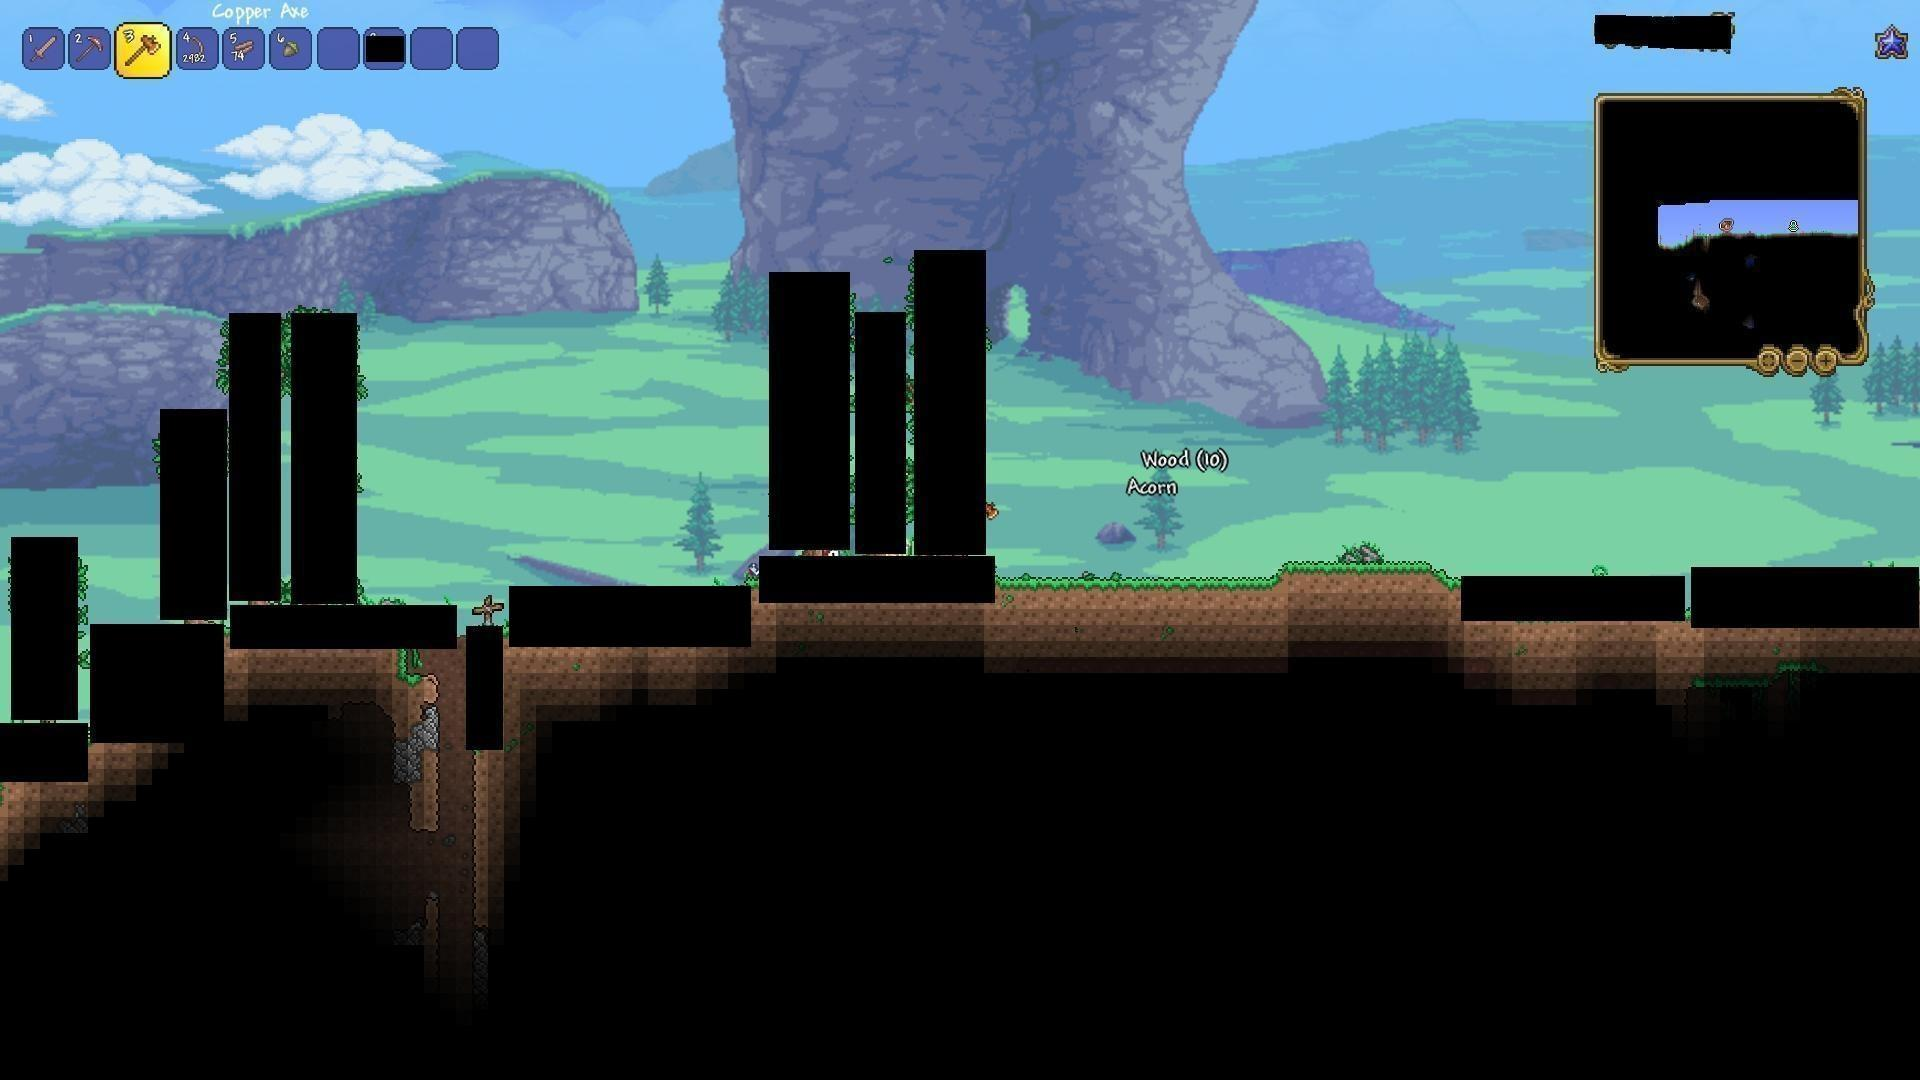dirt: (1001, 559, 1458, 611)
wood: (229, 32, 255, 65)
